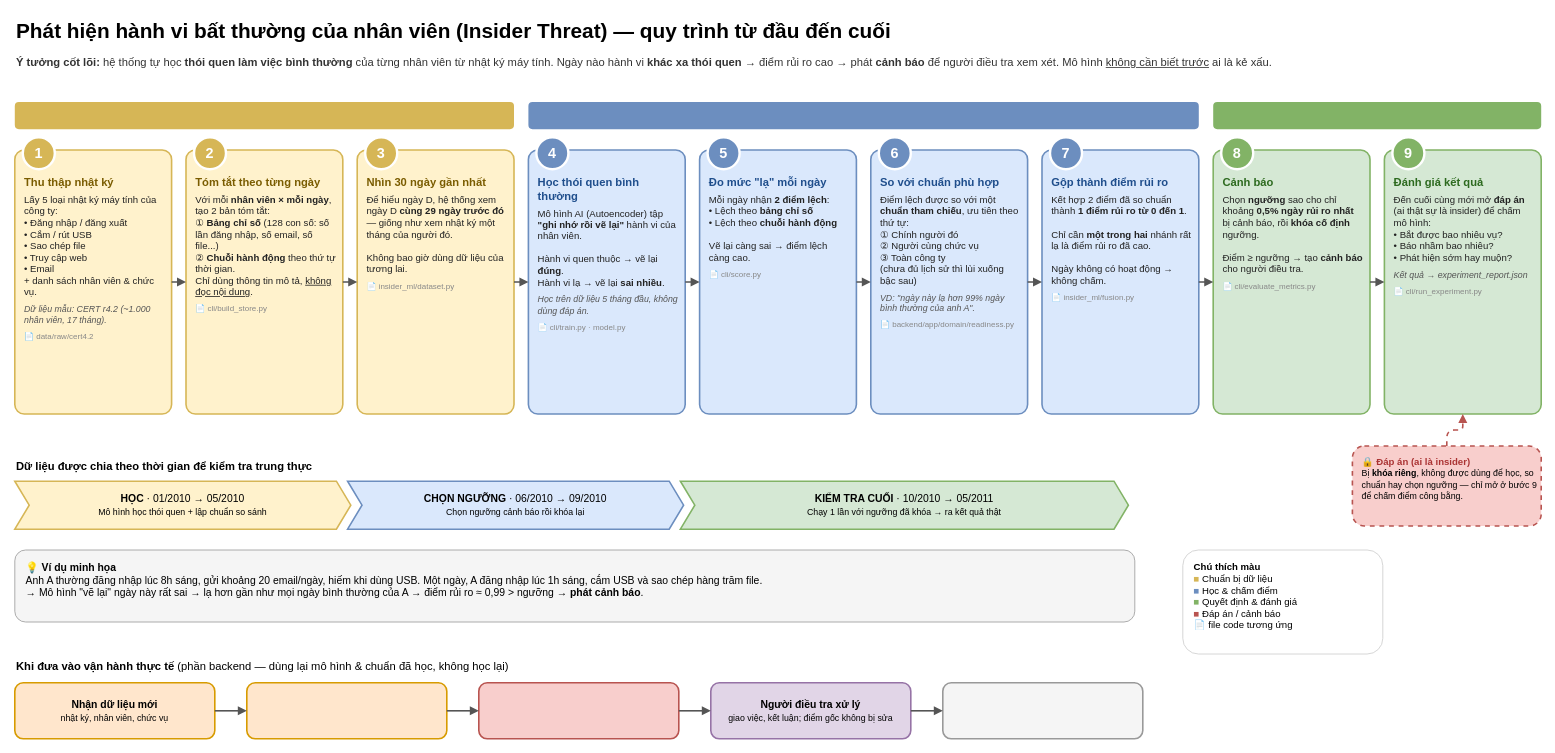
The diagram is 1555 pixels wide and 753 high, and some of its shapes have lost their labels. The centre of each missing label's shape, as x and y in pixels:
Chấm điểm từng ngày so chuẩn → gộp điểm rủi ro: [346,710]
Cập nhật thói quen cá nhân chỉ khi 30 ngày sau không có cảnh báo (mặc định tắt): [1042,710]
GIAI ĐOẠN 1 · CHUẨN BỊ DỮ LIỆU: [264,115]
GIAI ĐOẠN 2 · HỌC THÓI QUEN & CHẤM ĐIỂM: [863,115]
GIAI ĐOẠN 3 · QUYẾT ĐỊNH & ĐÁNH GIÁ: [1377,115]
Tạo cảnh báo nếu vượt ngưỡng đã khóa: [578,710]
